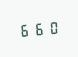six: (18, 21, 30, 37), (32, 20, 44, 36)
zero: (45, 19, 57, 35)
